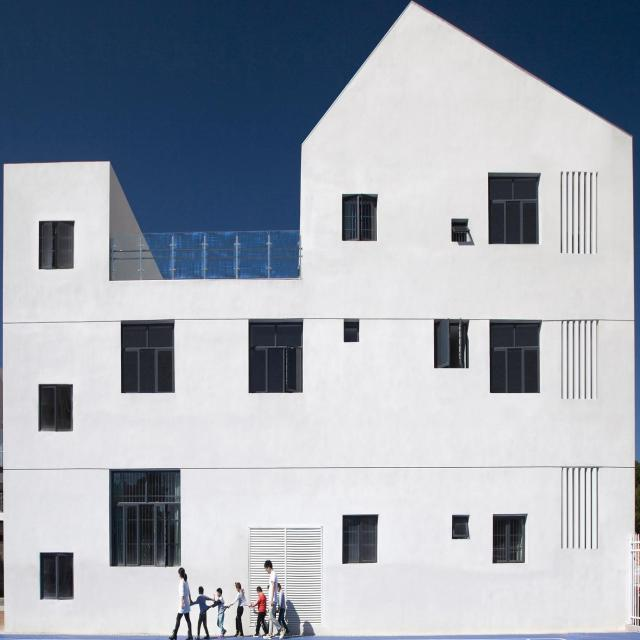railing: (110, 231, 301, 279)
window: (110, 472, 183, 567), (122, 320, 173, 392), (249, 327, 303, 392), (488, 176, 538, 243), (491, 327, 541, 394), (40, 218, 76, 267), (39, 551, 73, 600), (493, 514, 527, 563), (432, 319, 465, 367), (344, 516, 379, 561), (344, 192, 375, 240), (40, 388, 73, 431), (453, 517, 468, 542), (453, 222, 466, 241)
